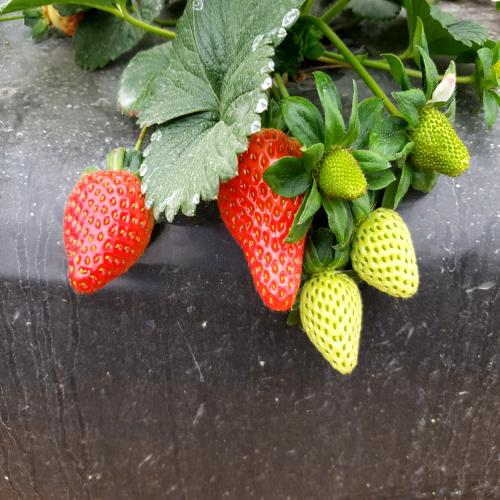ripe: (211, 112, 312, 324), (64, 151, 160, 303)
